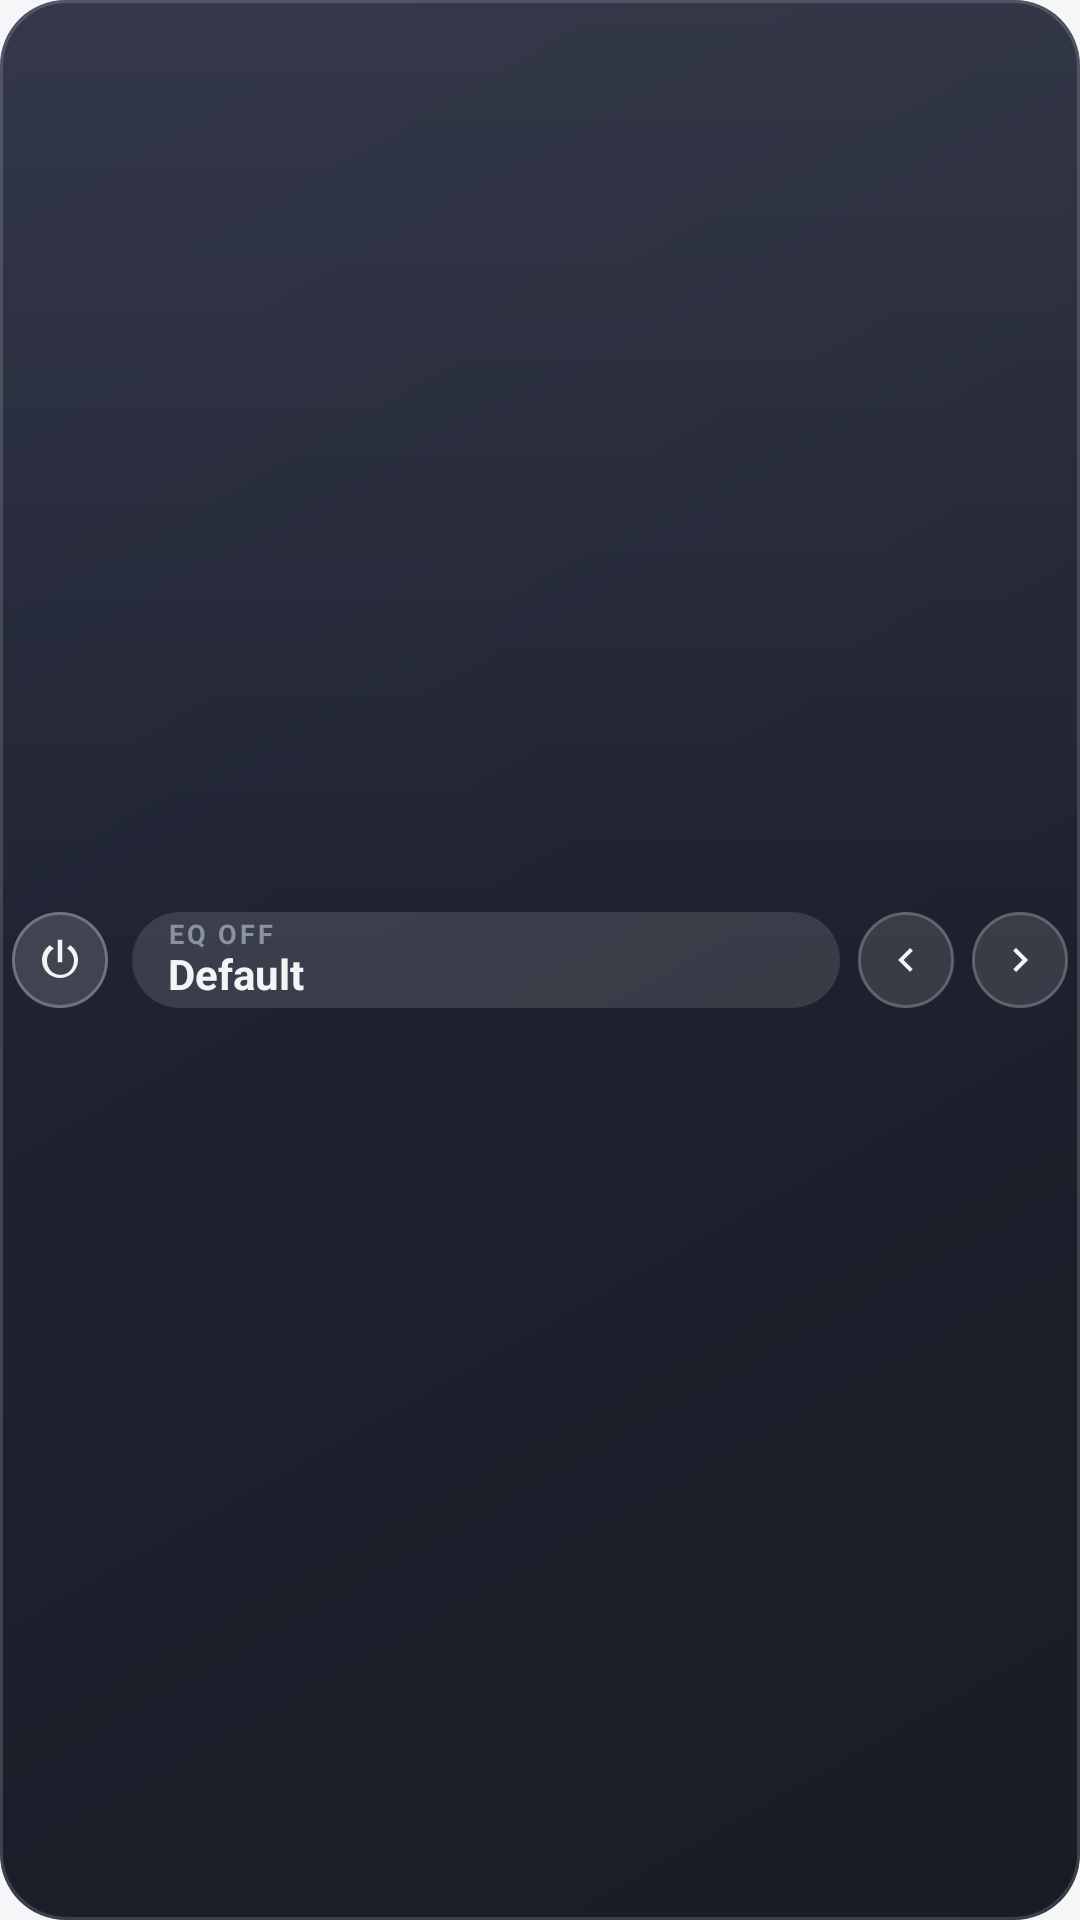

Where to tap for icons on this 1080×1920 app screen, as point (x, y):
Enable audio effects: point (60, 960)
widget next: point (1020, 960)
widget prev: point (906, 960)
